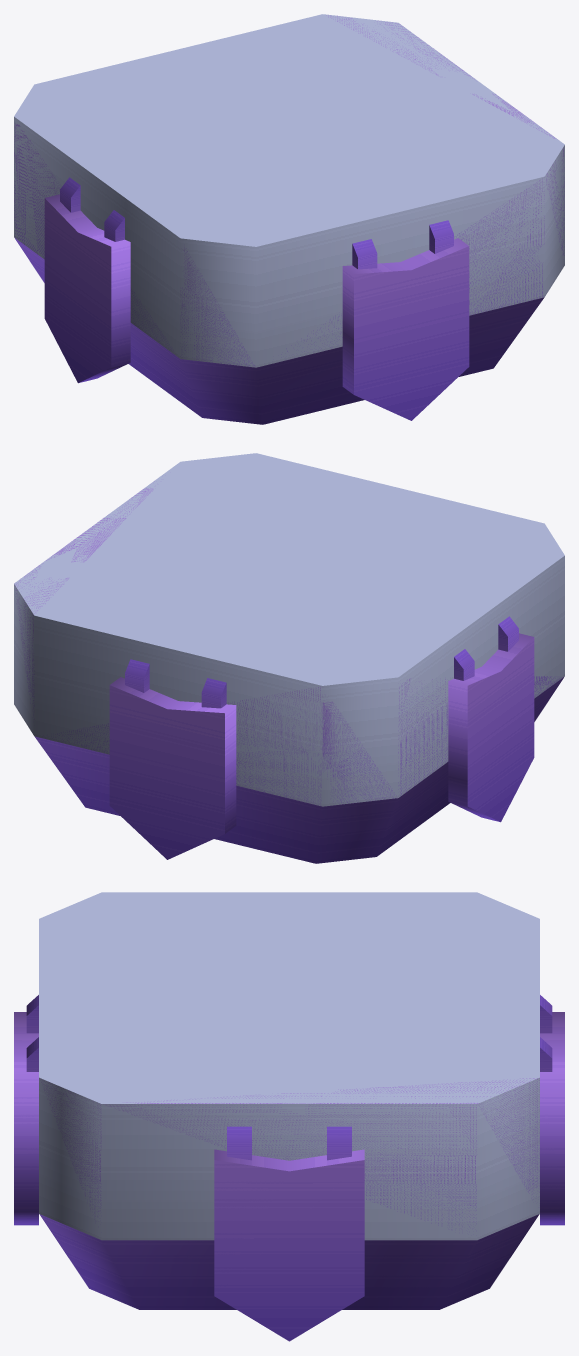
Rendered from tower-square-middle-a.glb.
3 views of the same model, one above another, from view 1: azimuth 30°, elevation 25°; view 2: azimuth 150°, elevation 25°; view 3: azimuth 270°, elevation 25° (orthographic). The views are drawn at different scales.
Parts seen in each view (by area): view 1: tower-square-middle-a; view 2: tower-square-middle-a; view 3: tower-square-middle-a.
Boxes of the visible parts, x1,y1,x2,y2 form: tower-square-middle-a: (14,14,564,424); tower-square-middle-a: (14,453,564,863); tower-square-middle-a: (14,892,564,1341).
Bounding box in the file's own units: 1.1 × 0.5 × 1.1.
Materials: 1 (1 with a texture image).
